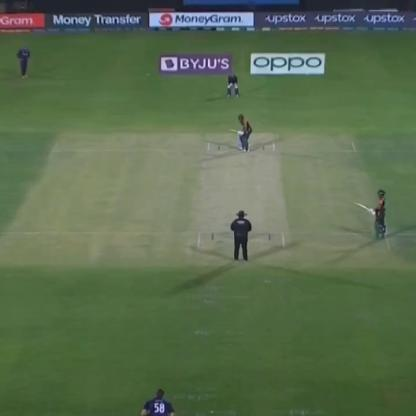bat: (350, 195, 376, 219), (221, 122, 244, 138)
pitch: (194, 141, 286, 249)
